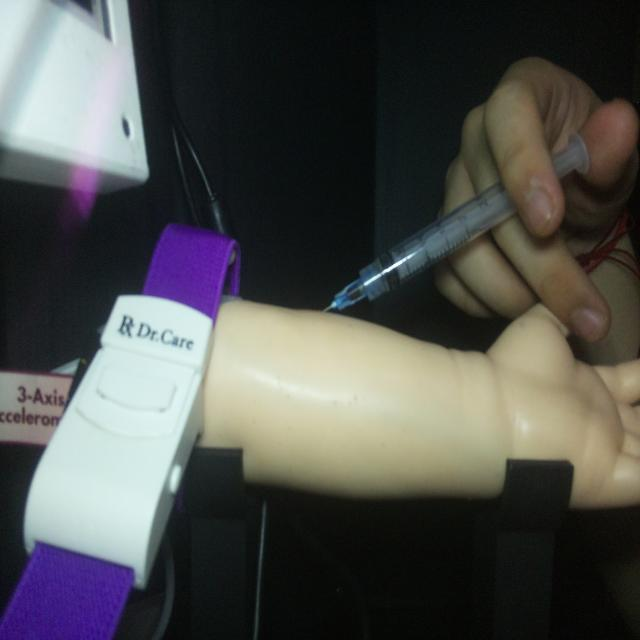24 degrees: (320, 128, 590, 316)
